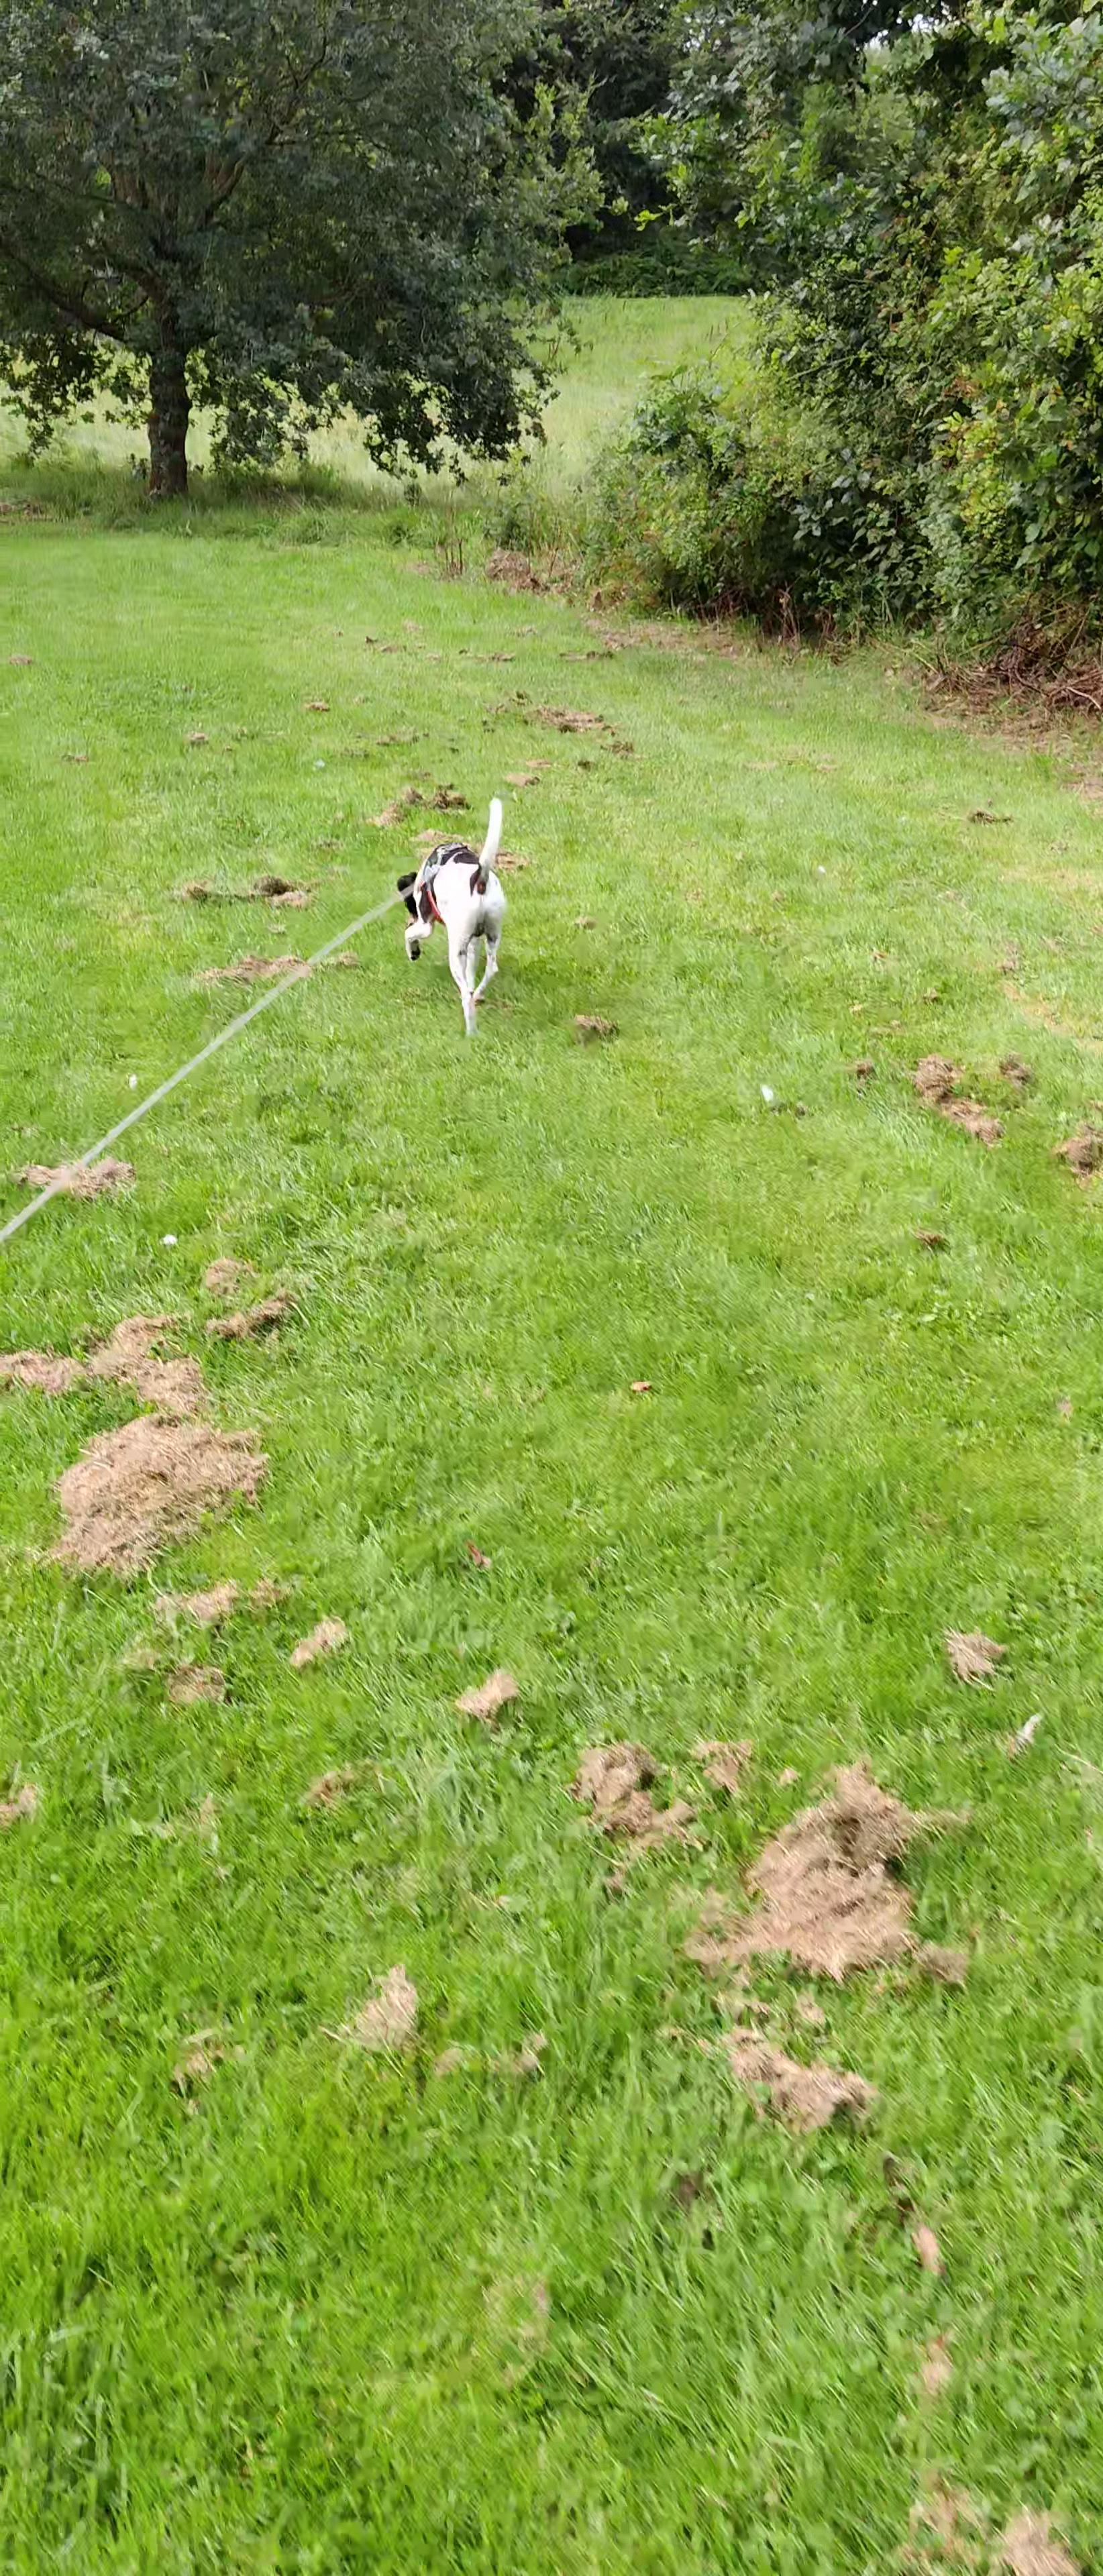Dog: (378, 777, 516, 1051)
